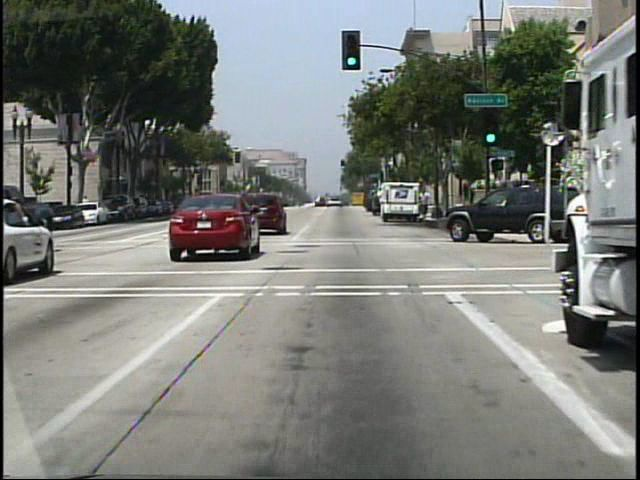person: (418, 188, 430, 220), (82, 192, 92, 218)
